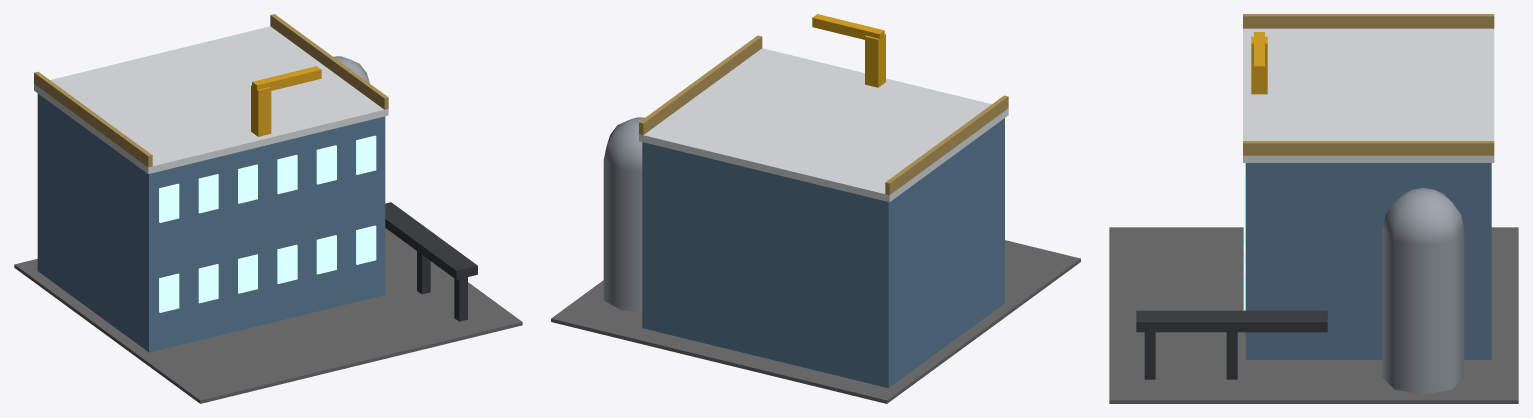
File: bld_special_factory_a10_lod1.glb
The picture shows the model from 3 angles, left to right: view 1: azimuth 30°, elevation 25°; view 2: azimuth 150°, elevation 25°; view 3: azimuth 270°, elevation 25°; orthographic projection. The views are drawn at different scales.
Parts seen in each view (by area): view 1: body, arm; view 2: body, arm; view 3: body, arm.
Boxes of the visible parts, x1,y1,x2,y2 form: body: [14, 14, 522, 403]; arm: [251, 66, 321, 136]; body: [551, 35, 1080, 403]; arm: [812, 14, 885, 87]; body: [1109, 14, 1518, 403]; arm: [1251, 32, 1267, 94].
Bounding box in the file's own units: 15 × 10.7 × 15.
